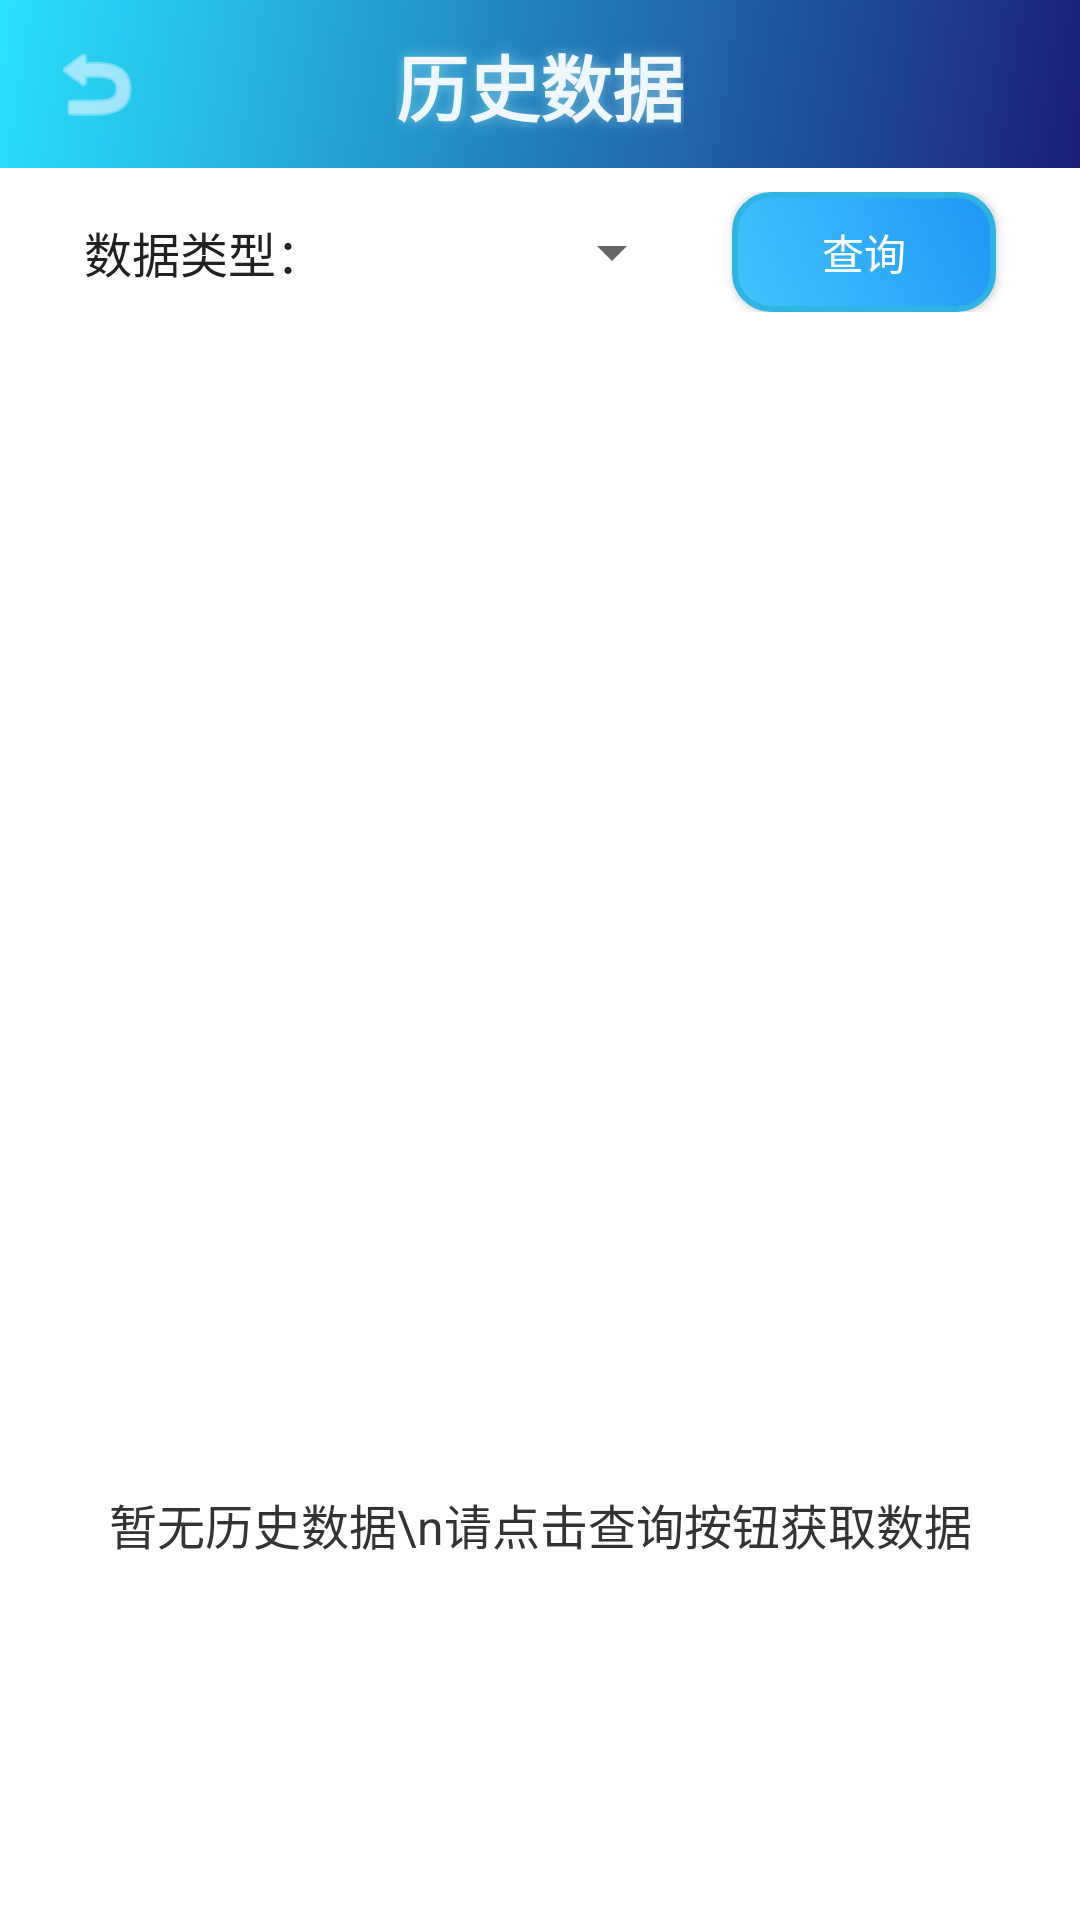

Where to tap for icons on this 1080px x 1920px app screen, as (x,y):
返回: (97,84)
